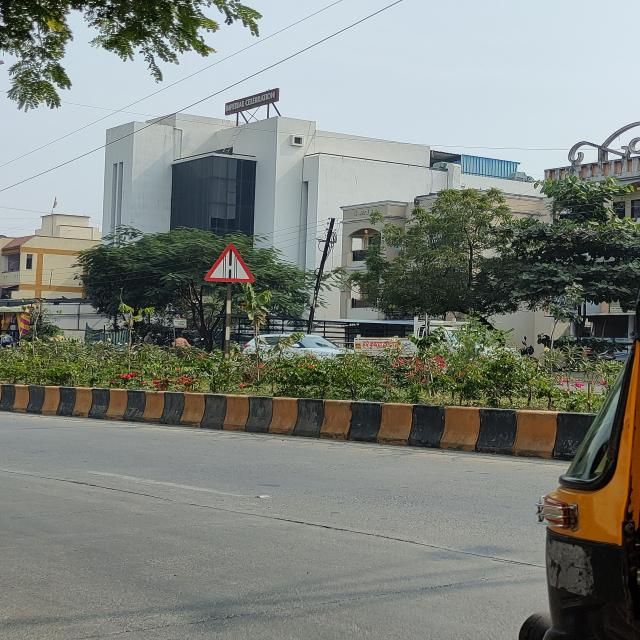ferry: (203, 242, 255, 283)
